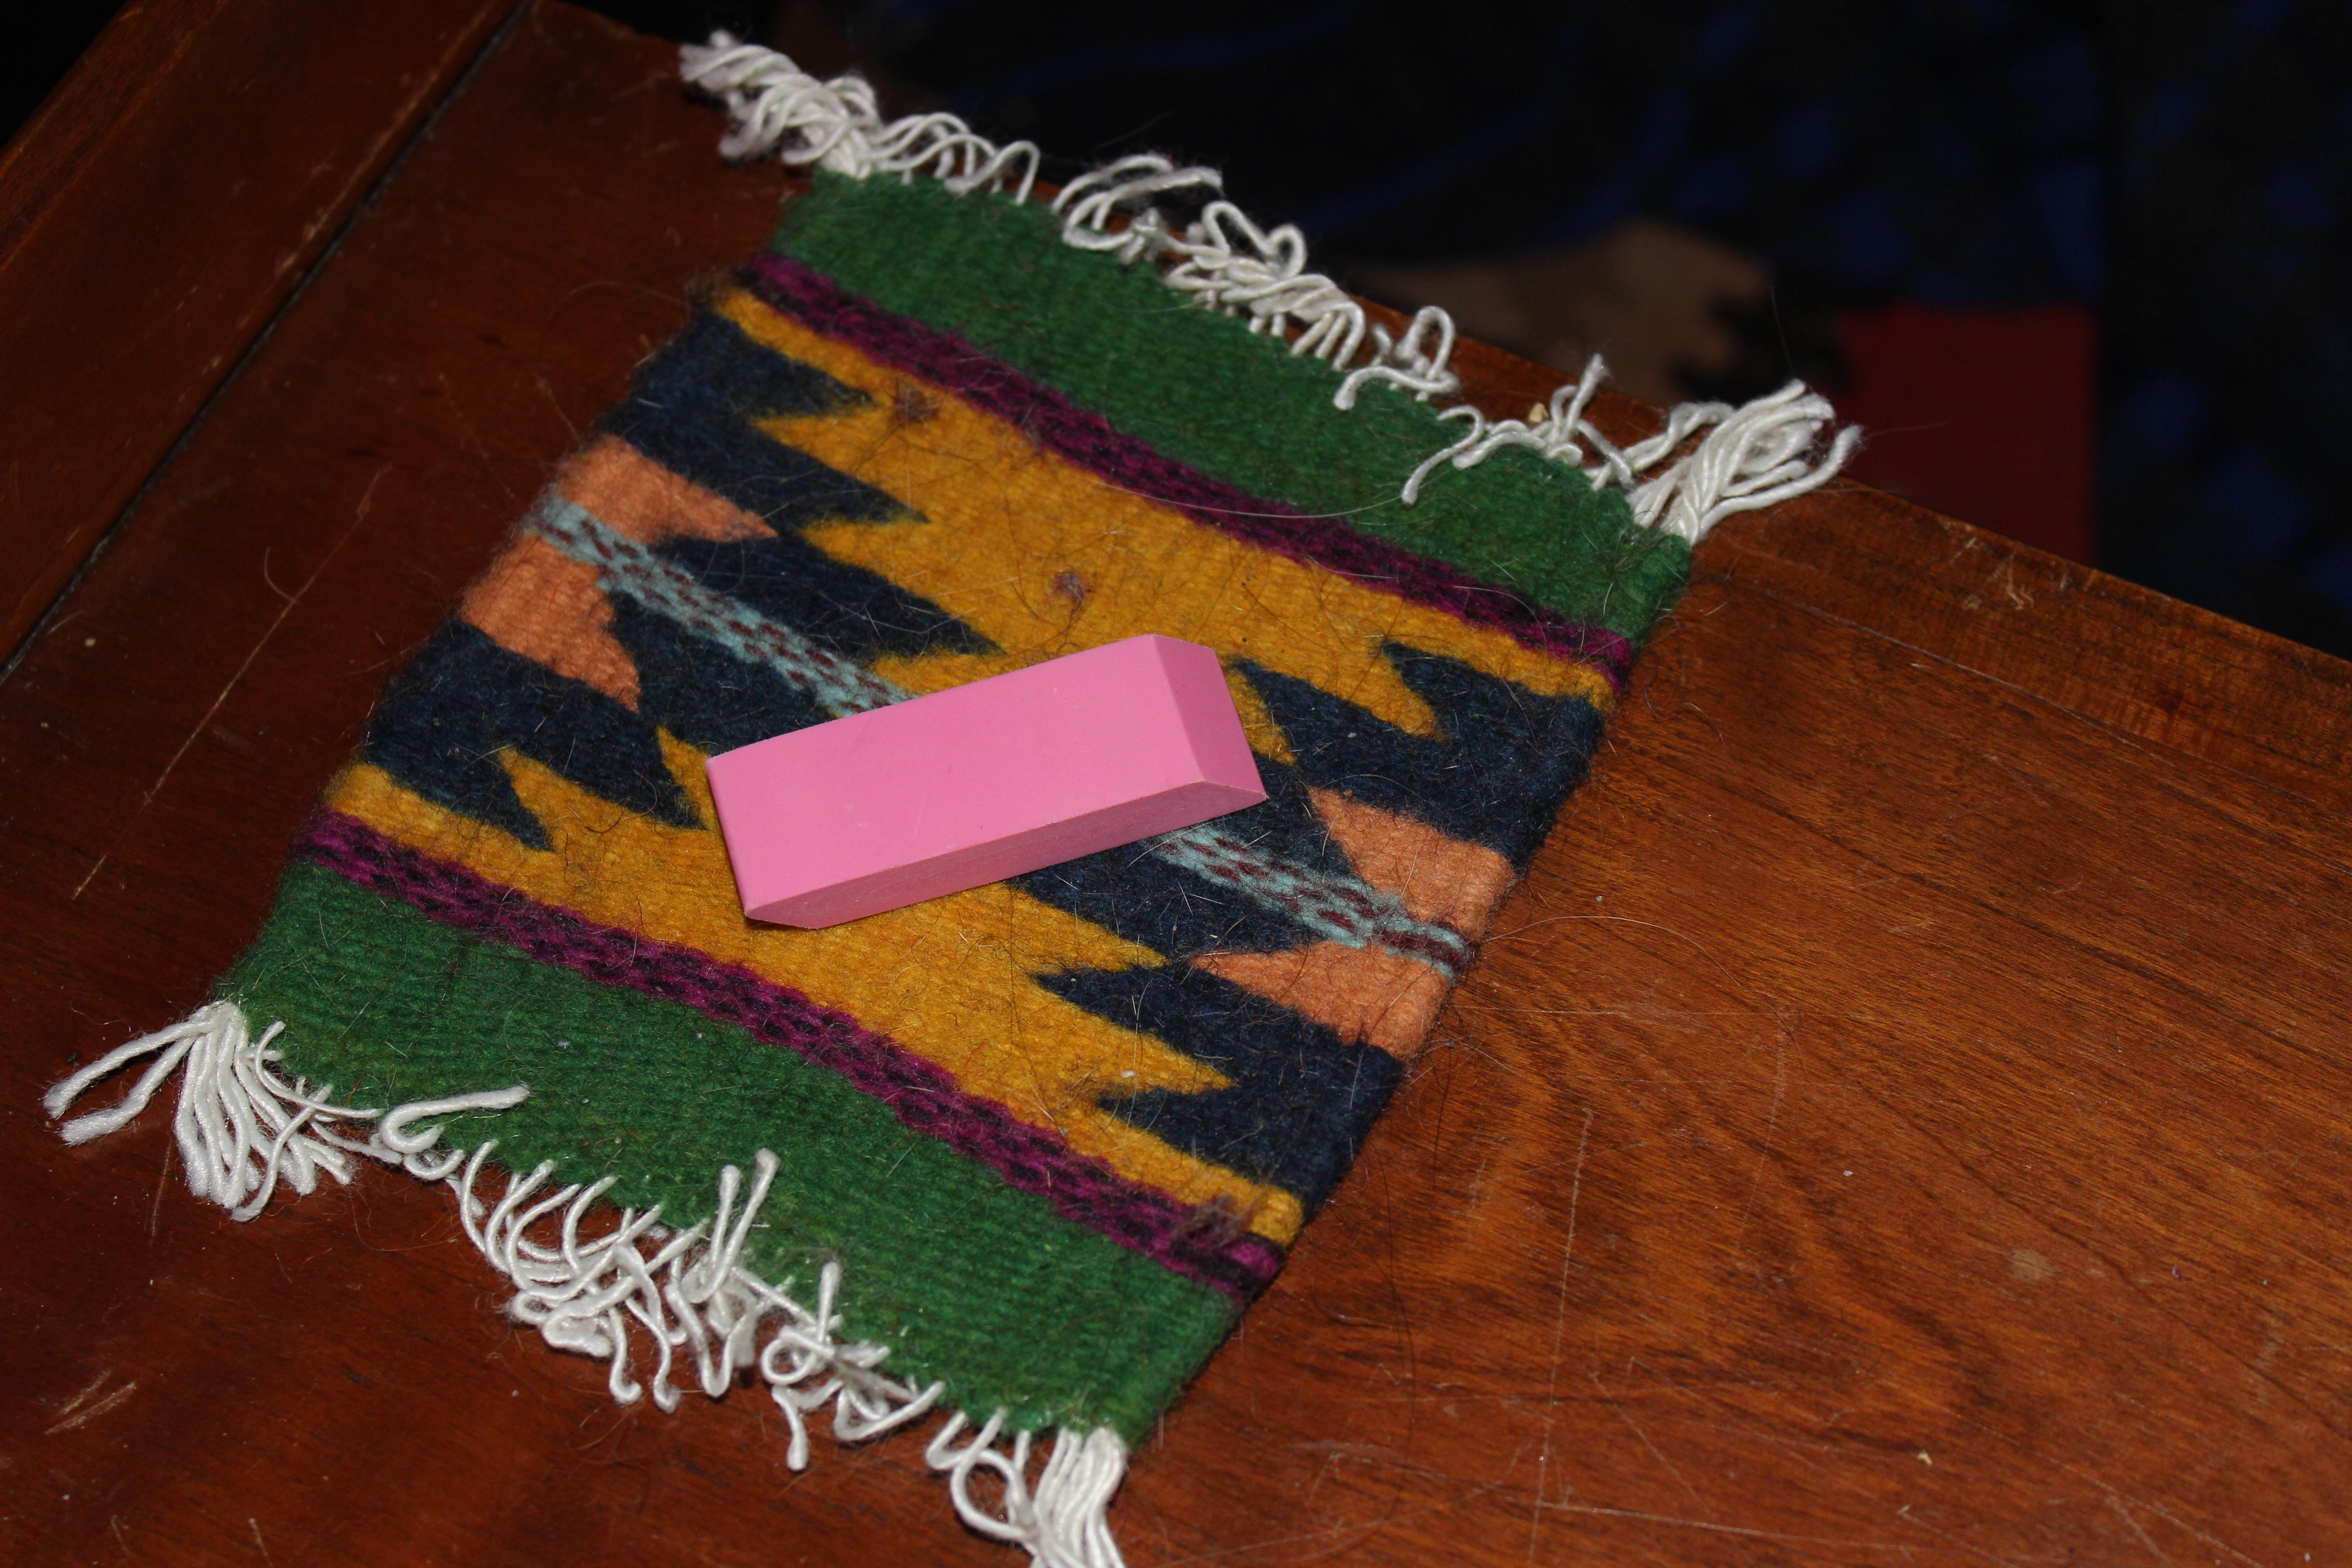pinkEraser: (677, 621, 1286, 943)
